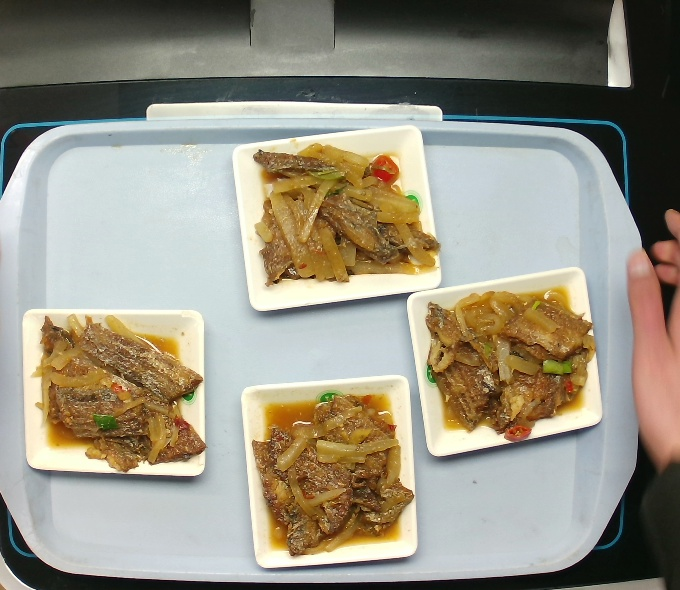wcq-DaiYu: (249, 137, 445, 294), (245, 385, 418, 561), (427, 280, 600, 456), (38, 314, 211, 468)
